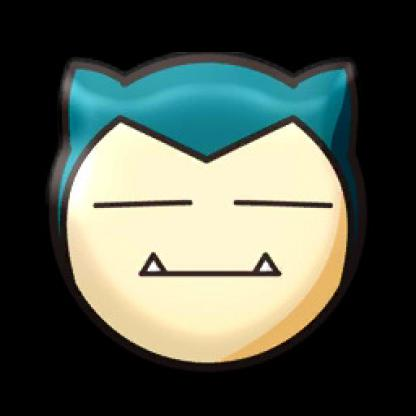Snorlax: (34, 43, 372, 377)
